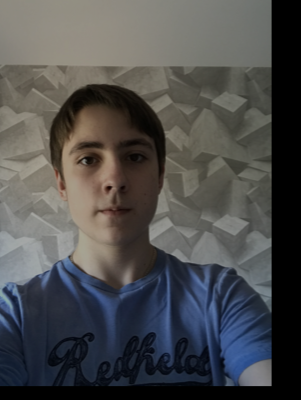without_mask: (65, 137, 162, 247)
